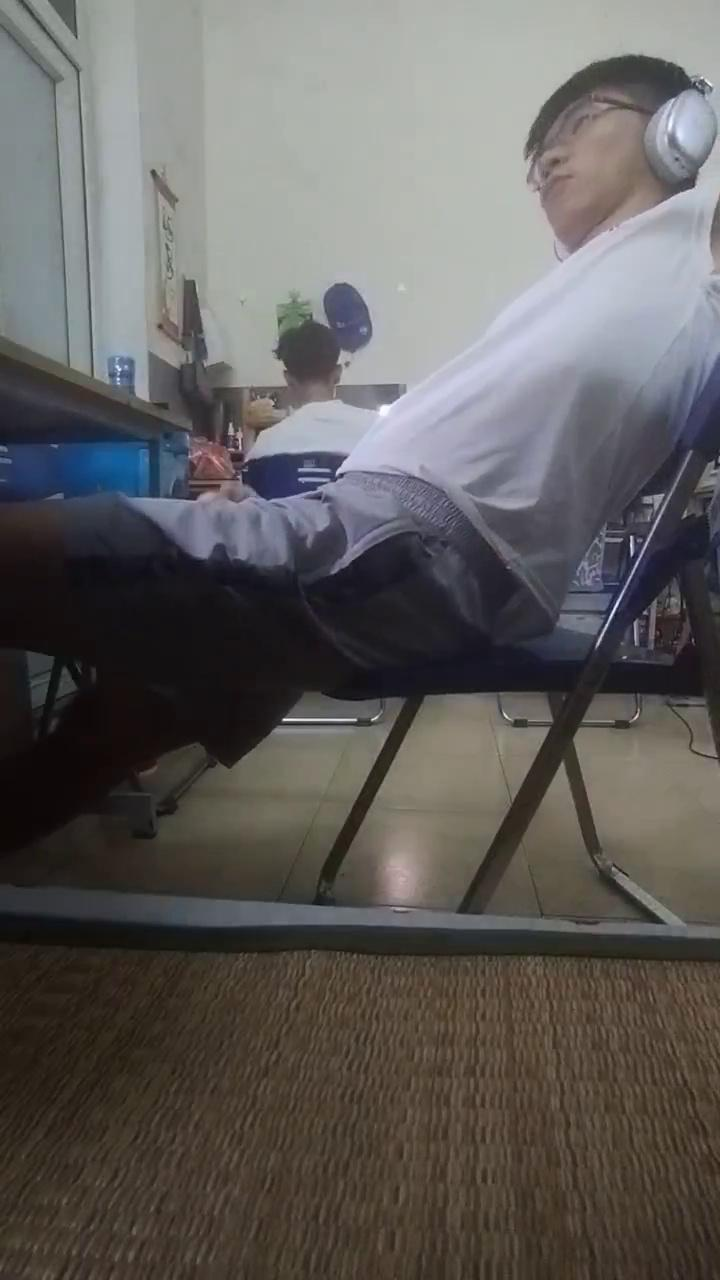BadPosture: (0, 56, 719, 855)
